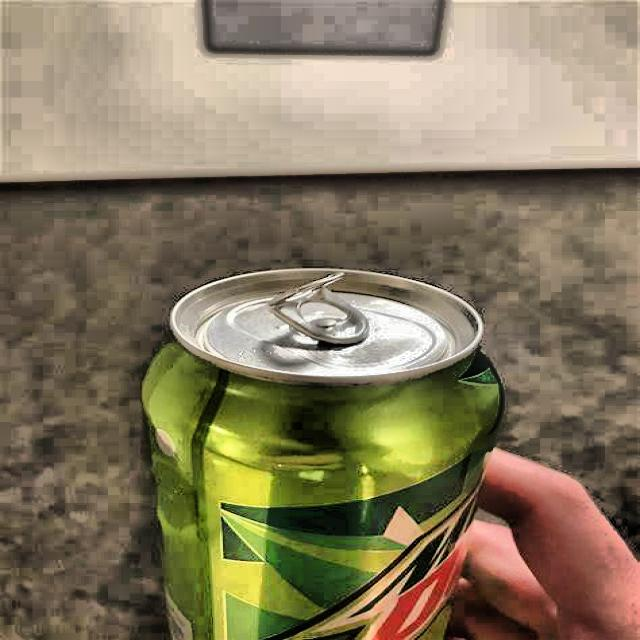Cans: (121, 254, 529, 640)
